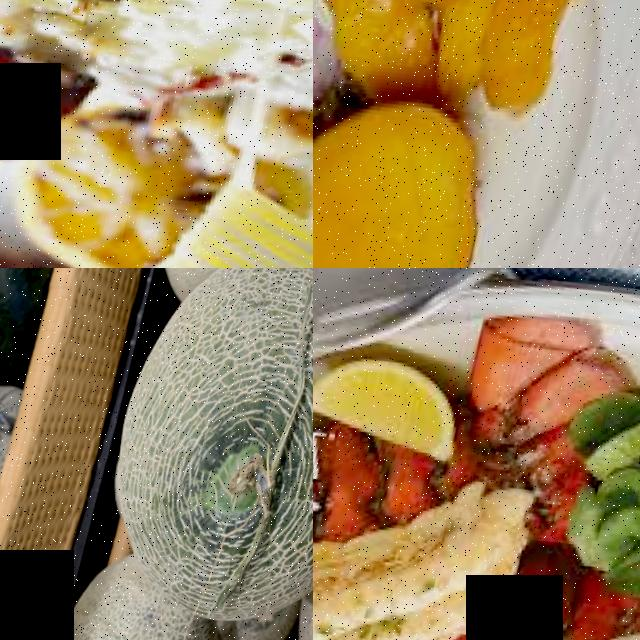lemon: (313, 341, 473, 474)
lobster tails: (413, 315, 622, 598), (0, 0, 201, 196)
melon: (0, 268, 313, 495), (260, 276, 313, 516), (0, 268, 26, 465)
